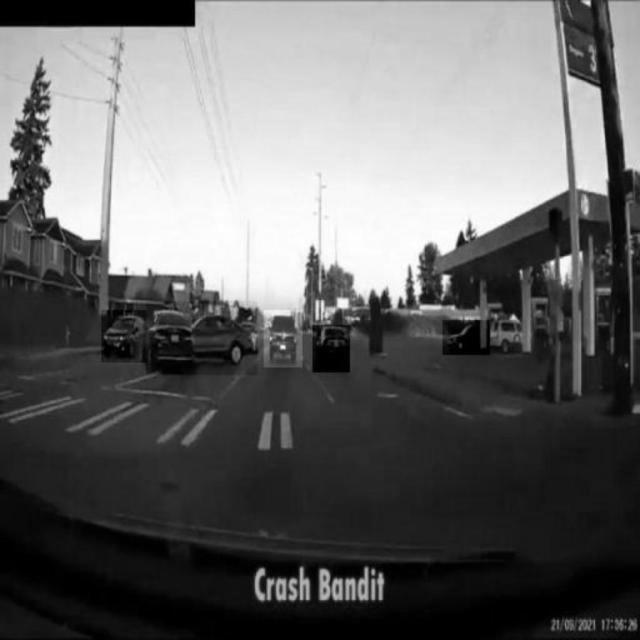accident: (147, 302, 258, 375)
vehicle: (102, 311, 147, 363), (264, 310, 302, 367), (313, 324, 350, 372), (443, 320, 490, 356)
